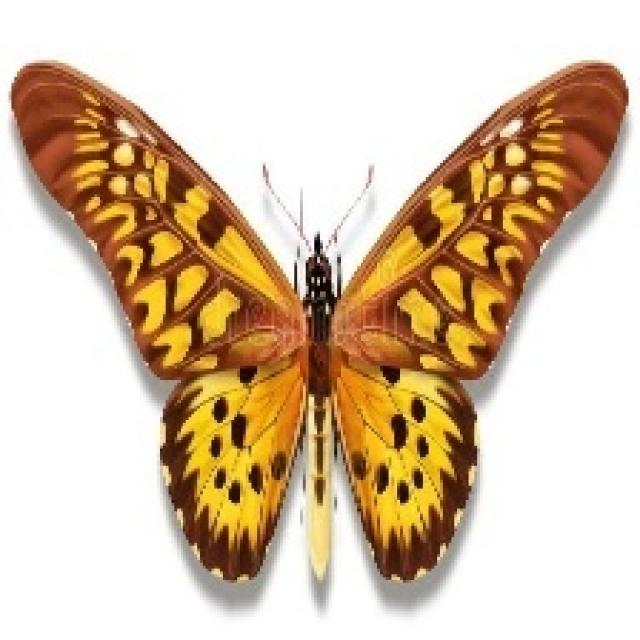butterfly: (9, 54, 628, 586)
